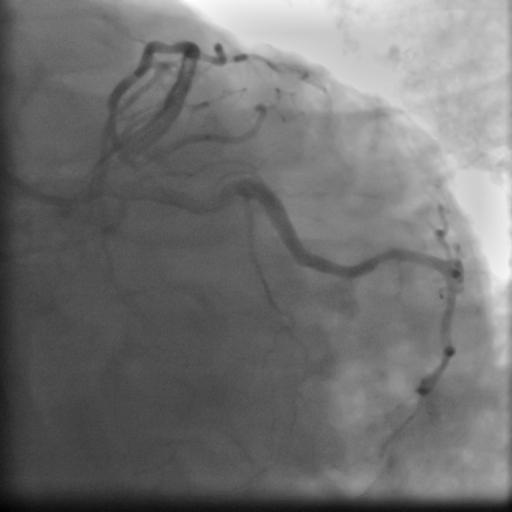Stenosis: (214, 183, 242, 205)
